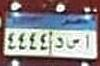4: (17, 32, 28, 51), (6, 31, 16, 51), (28, 32, 37, 52), (39, 33, 48, 52)
alif: (85, 34, 91, 51)
daal: (54, 37, 65, 50)
seen: (66, 37, 80, 52)
